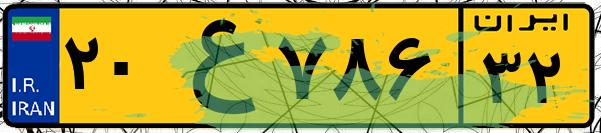0: (110, 28, 158, 98)
2: (57, 26, 110, 100), (525, 38, 570, 115)
3: (475, 38, 525, 113)
6: (385, 28, 445, 110)
7: (270, 28, 330, 110)
8: (330, 28, 385, 110)
ع: (158, 12, 270, 120)
